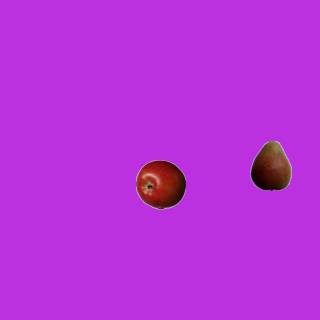Apple Braeburn: (135, 159, 185, 209)
Pear Forelle: (245, 140, 295, 190)
